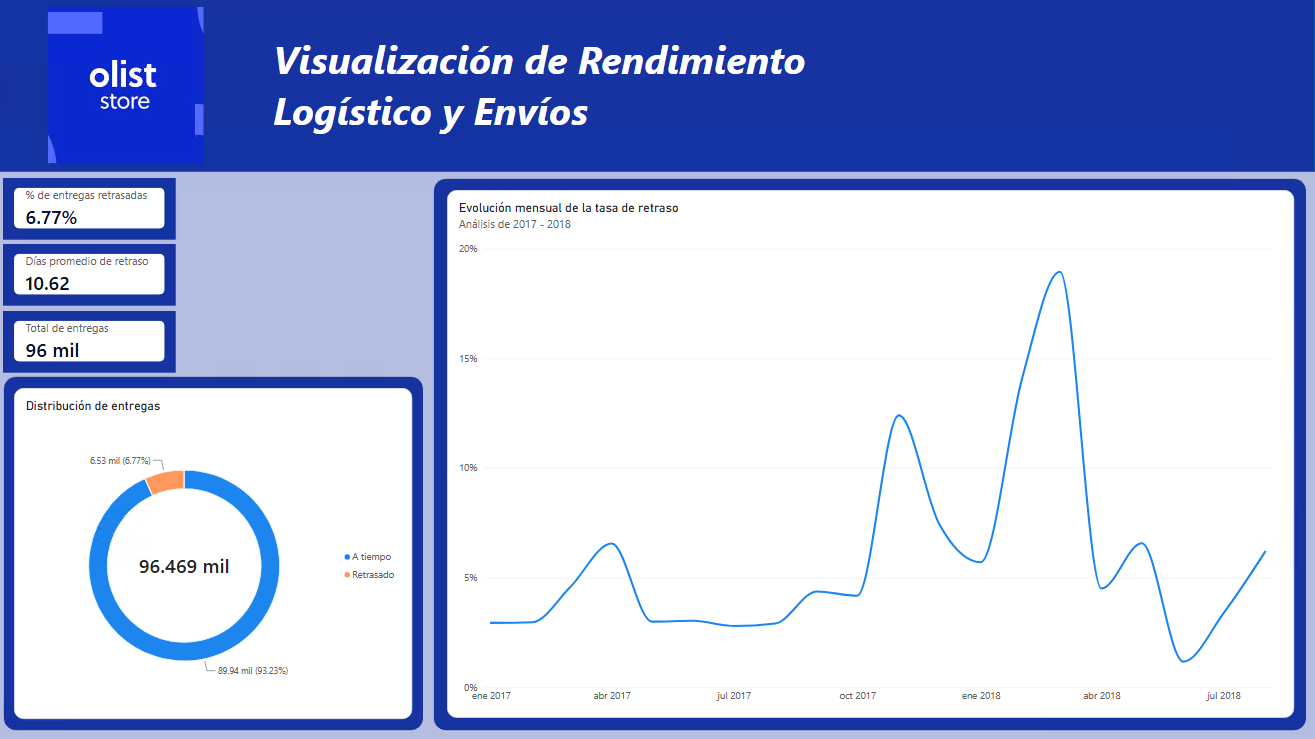

The page's visual inventory and layout, read from the dashboard file:
{"tool":"powerbi","page":{"name":"Envíos","canvas":[1920,1080],"ordinal":0},"visuals":[{"type":"shape","box":[0,0,1920,252.4],"z":0},{"type":"image","box":[59,12,253,227.7],"z":1000},{"type":"cardVisual","fields":{"Data":["Medidas.% de entregas retrasadas"]},"box":[5.9,261,252.4,90.5],"z":2000},{"type":"cardVisual","fields":{"Data":["Medidas.Días promedio de retraso"]},"box":[5.9,357.2,252.4,90.5],"z":3000},{"type":"kpi","title":"Filtros","fields":{"Indicator":["Medidas.% de entregas retrasadas"]},"box":[5.8,550,614.2,517.9],"z":4000},{"type":"donutChart","title":"Distribución de entregas","fields":{"Category":["public vw_entregas.status"],"Y":["CountNonNull(public vw_entregas.abs_real_delivery)"]},"box":[21.9,567.5,580.7,482.9],"z":5000},{"type":"kpi","title":"Filtros","fields":{"Indicator":["Medidas.% de entregas retrasadas"]},"box":[633.3,260.5,1275.3,807.4],"z":6000},{"type":"lineChart","title":"Evolución mensual de la tasa de retraso","fields":{"Category":["public vw_entregas.order_purchase_timestamp.Variation.Jerarquía de fechas.Año","public vw_entregas.order_purchase_timestamp.Variation.Jerarquía de fechas.Mes"],"Y":["Medidas.% de entregas retrasadas"]},"box":[653.1,279,1235.7,770.3],"z":7000},{"type":"cardVisual","fields":{"Data":["Medidas.Total de entregas"]},"box":[5.9,454.7,252.4,90.5],"z":8000},{"type":"textbox","box":[399.8,49.6,803.9,150.3],"z":9001}]}

Visuals, with their boxes in screenshot pixels (x1, y1, x2, y2), scaled from the page's 1920x1080 canvas onto the 1315x739 screenshot:
shape: {"x1": 0, "y1": 0, "x2": 1314, "y2": 173}
image: {"x1": 40, "y1": 8, "x2": 214, "y2": 164}
cardVisual - Medidas.% de entregas retrasadas: {"x1": 4, "y1": 179, "x2": 177, "y2": 241}
cardVisual - Medidas.Días promedio de retraso: {"x1": 4, "y1": 244, "x2": 177, "y2": 306}
"Filtros" kpi: {"x1": 4, "y1": 376, "x2": 425, "y2": 731}
"Distribución de entregas" donutChart: {"x1": 15, "y1": 388, "x2": 413, "y2": 719}
"Filtros" kpi: {"x1": 434, "y1": 178, "x2": 1307, "y2": 731}
"Evolución mensual de la tasa de retraso" lineChart: {"x1": 447, "y1": 191, "x2": 1294, "y2": 718}
cardVisual - Medidas.Total de entregas: {"x1": 4, "y1": 311, "x2": 177, "y2": 373}
textbox: {"x1": 274, "y1": 34, "x2": 824, "y2": 137}
